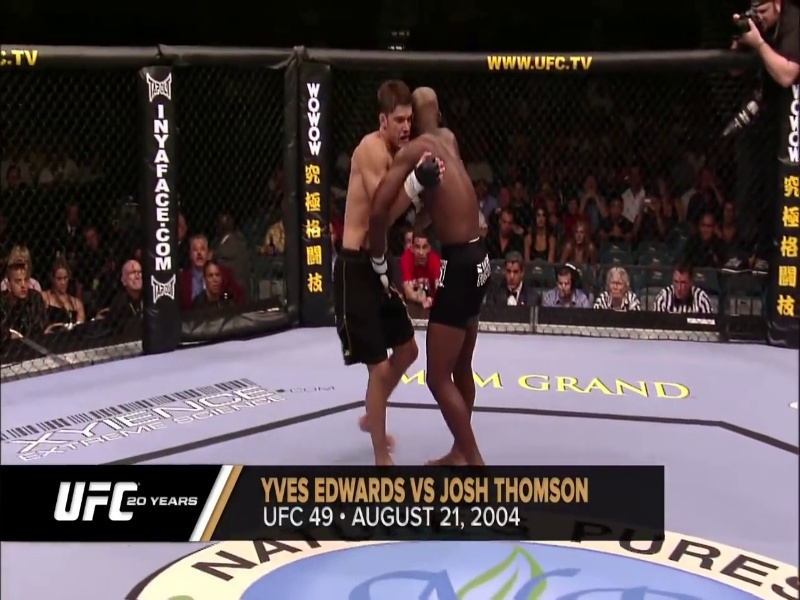fighter: (373, 79, 520, 487), (337, 75, 446, 501)
